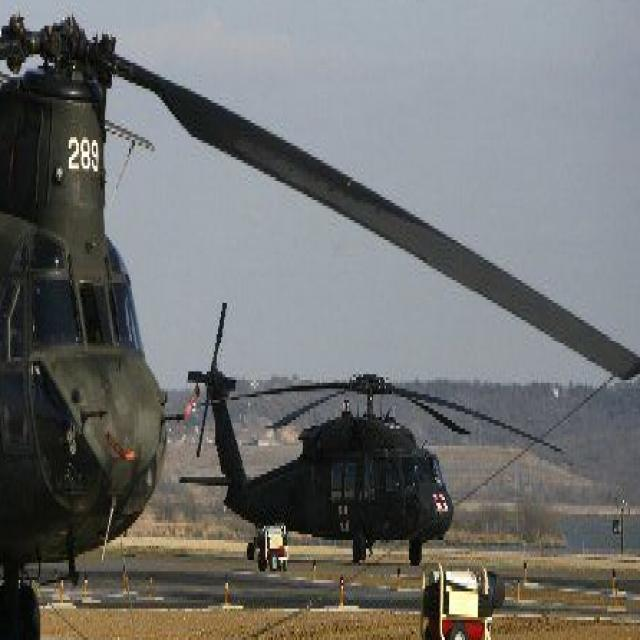helicopter: (1, 12, 640, 640), (185, 301, 566, 575)
